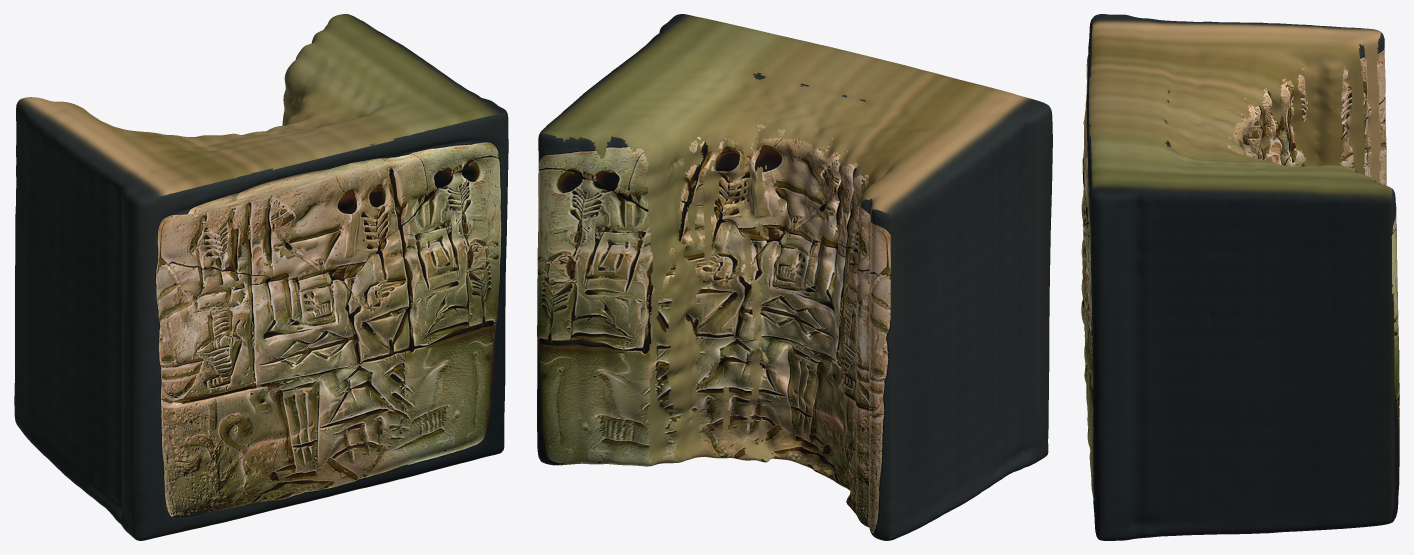
The model's file is ane-04.glb.
3 renders of one model, left to right at view 1: azimuth 30°, elevation 25°; view 2: azimuth 150°, elevation 25°; view 3: azimuth 270°, elevation 25°, orthographic.
Visible parts, largest first — view 1: ane-04; view 2: ane-04; view 3: ane-04.
Part boxes in pixels (left/top/right/bottom): ane-04: left=14, top=14, right=508, bottom=540; ane-04: left=537, top=14, right=1052, bottom=540; ane-04: left=1081, top=14, right=1399, bottom=540.
Bounding box in the file's own units: 0.9984 × 0.8896 × 0.7225.
4 materials, 4 textured.
